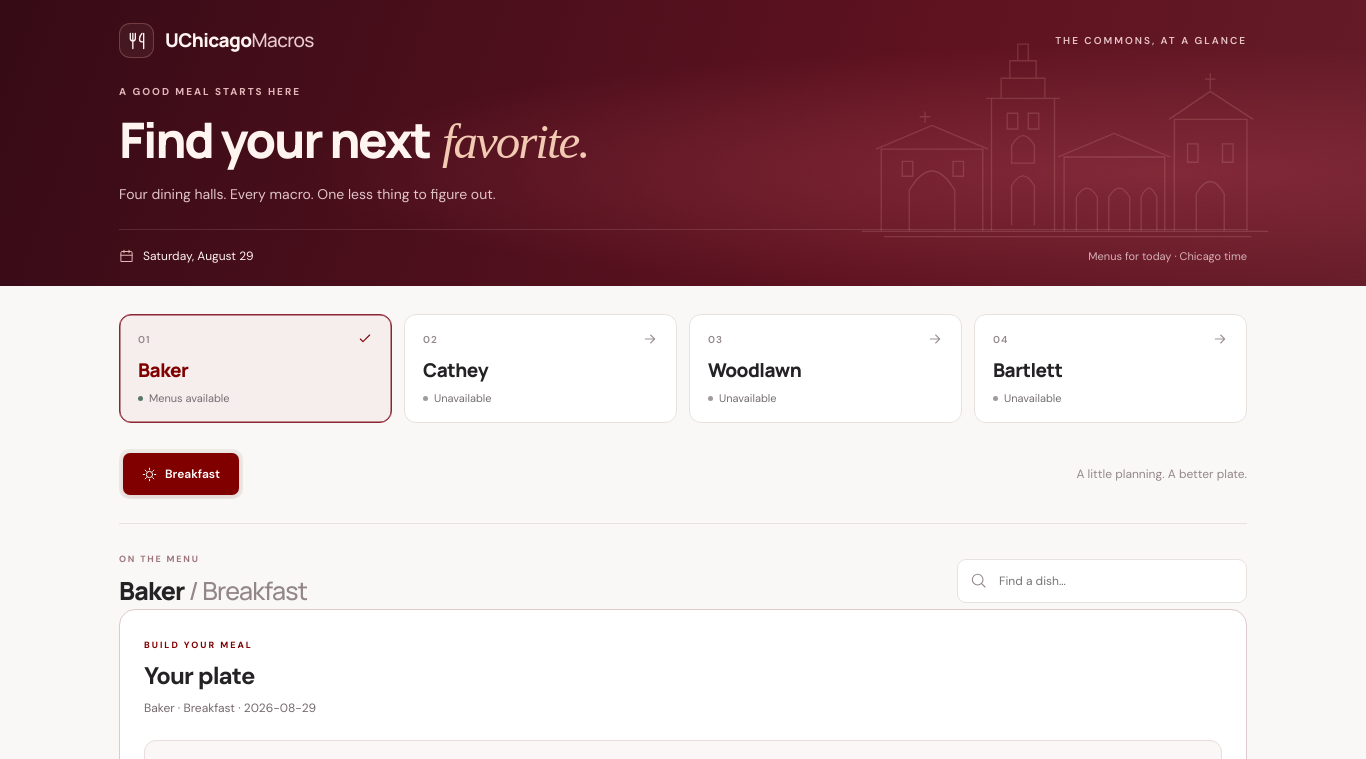
Test case: explains itself when no dish reports full nutrition
Click the button "Breakfast" at [181, 474], box 123,453 -> 239,495
(page scrolled)
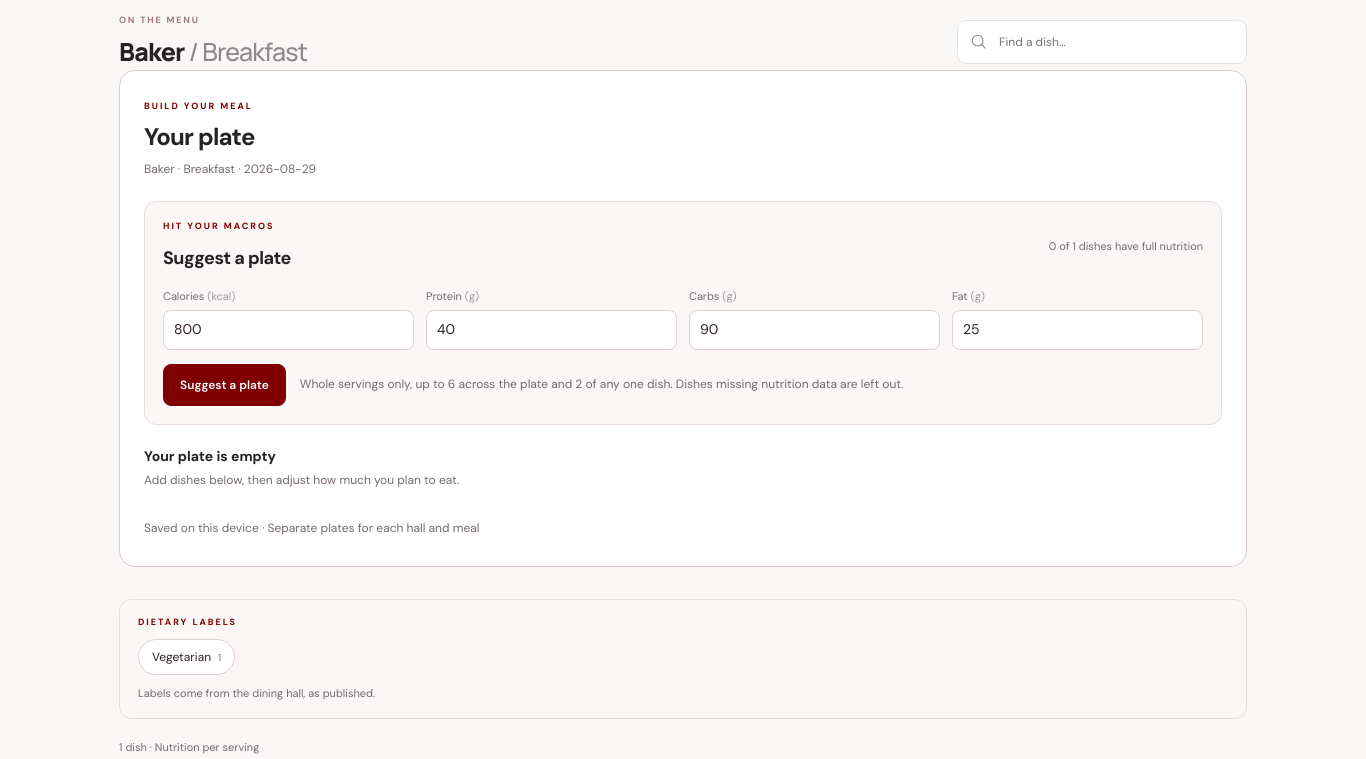
expect the text "0 of 1 dishes have full nutrition" is shown: met, box 1049,238 -> 1203,254
Click the button "Suggest a plate" at [224, 385], box 163,364 -> 286,406
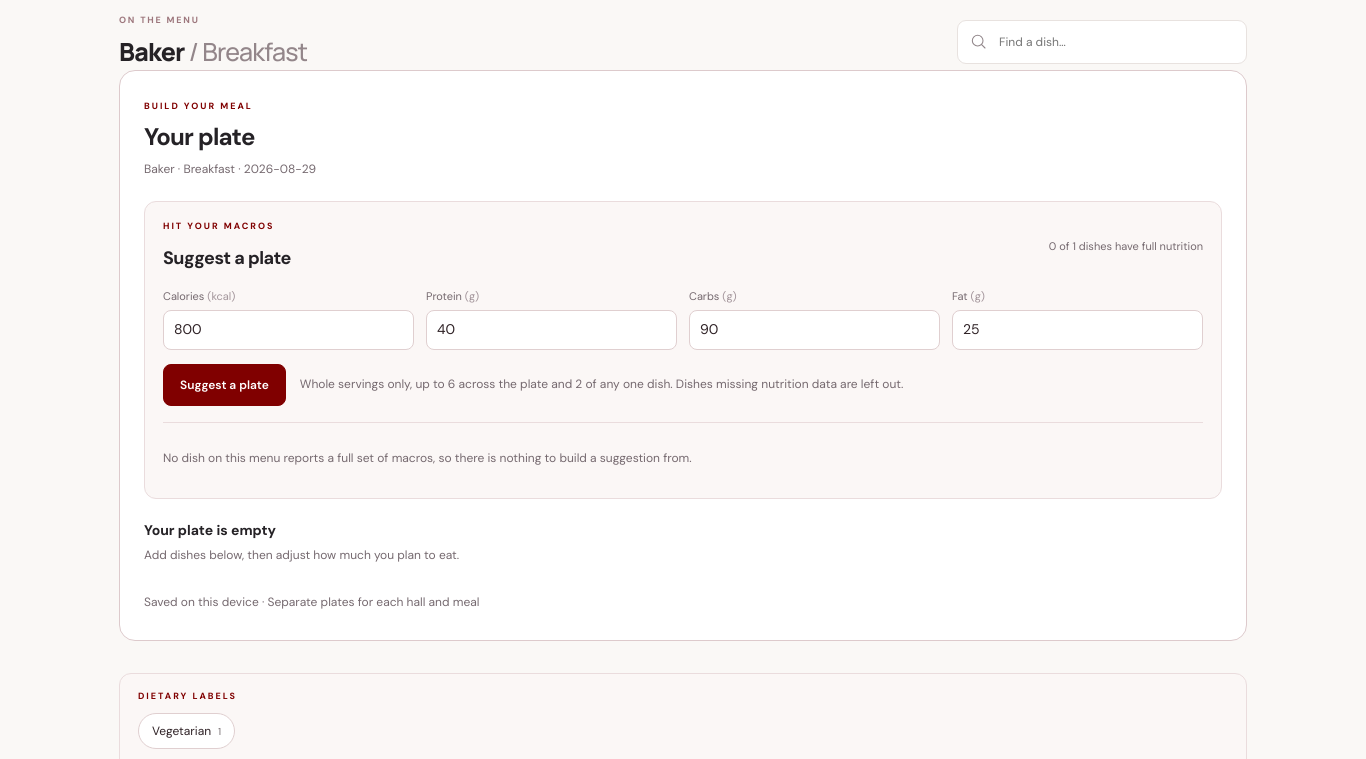
expect the text "No dish on this menu reports a full set" is shown: met, box 163,450 -> 692,466
